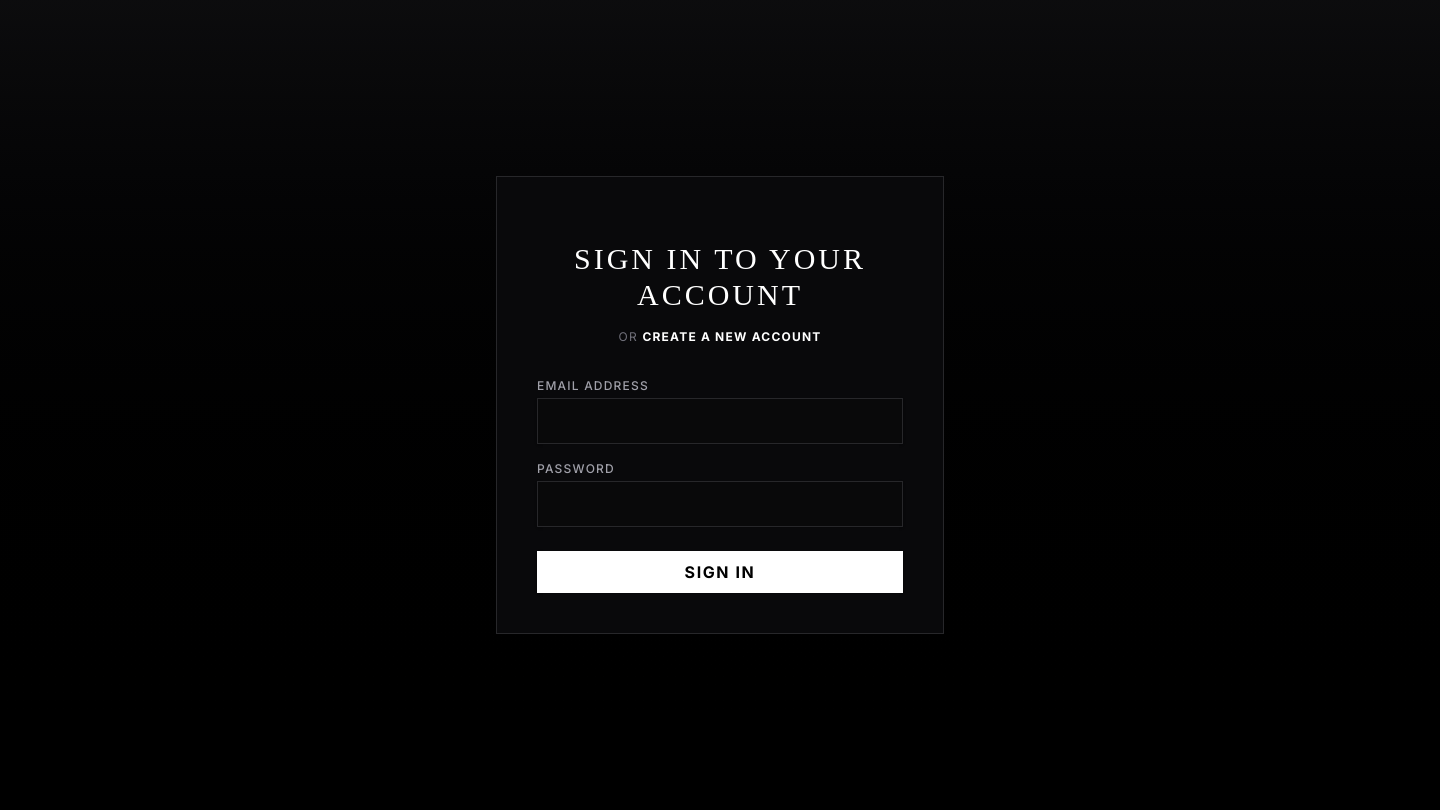
Test case: LoginPage › shows client-side validation errors when submitting empty form
This screenshot has width=1440, height=810.
Click the button "Sign in" at (720,572), box [537,551,903,593]
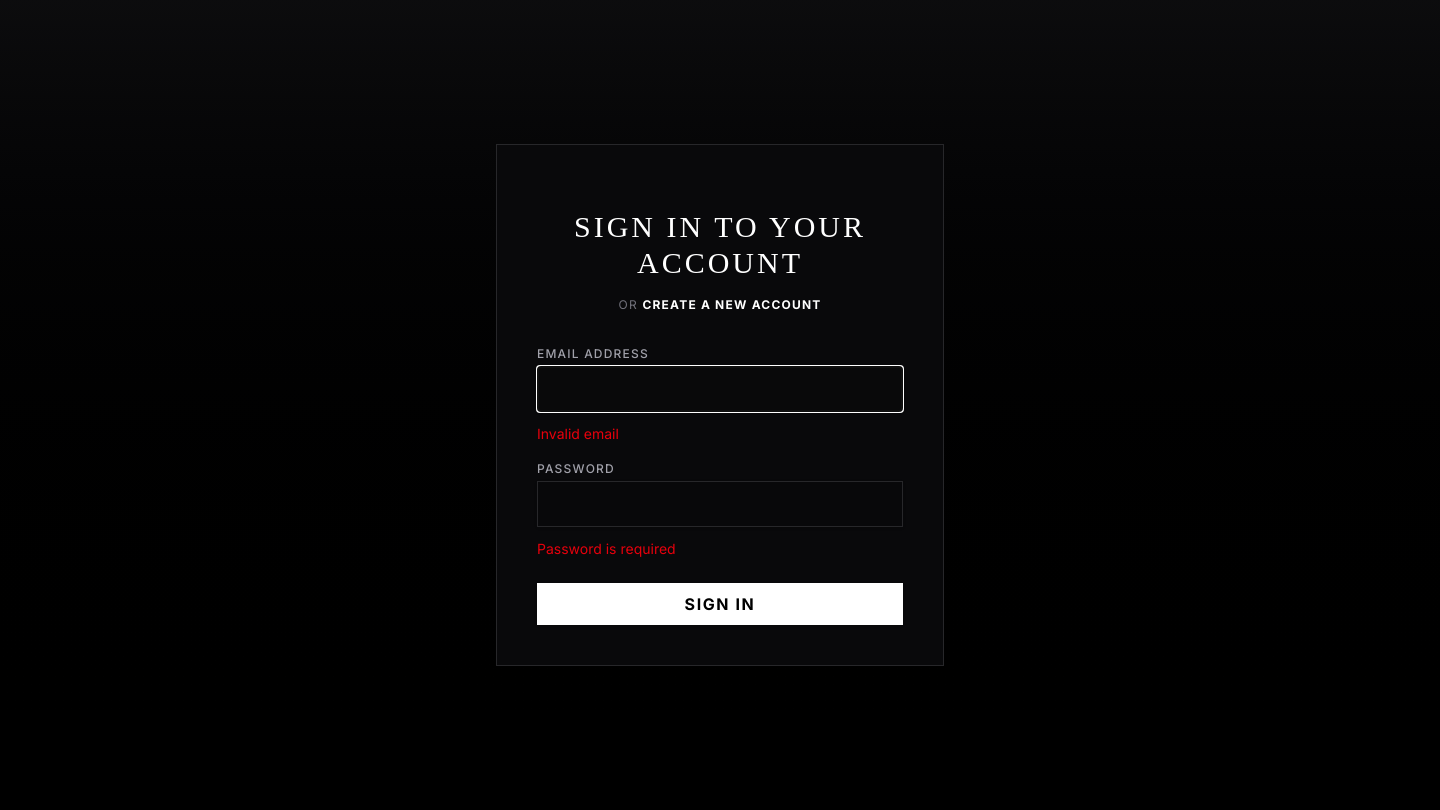
Expected: the text "Invalid email" is shown, [537,425,619,442]
Expected: the text "Password is required" is shown, [537,540,676,557]
